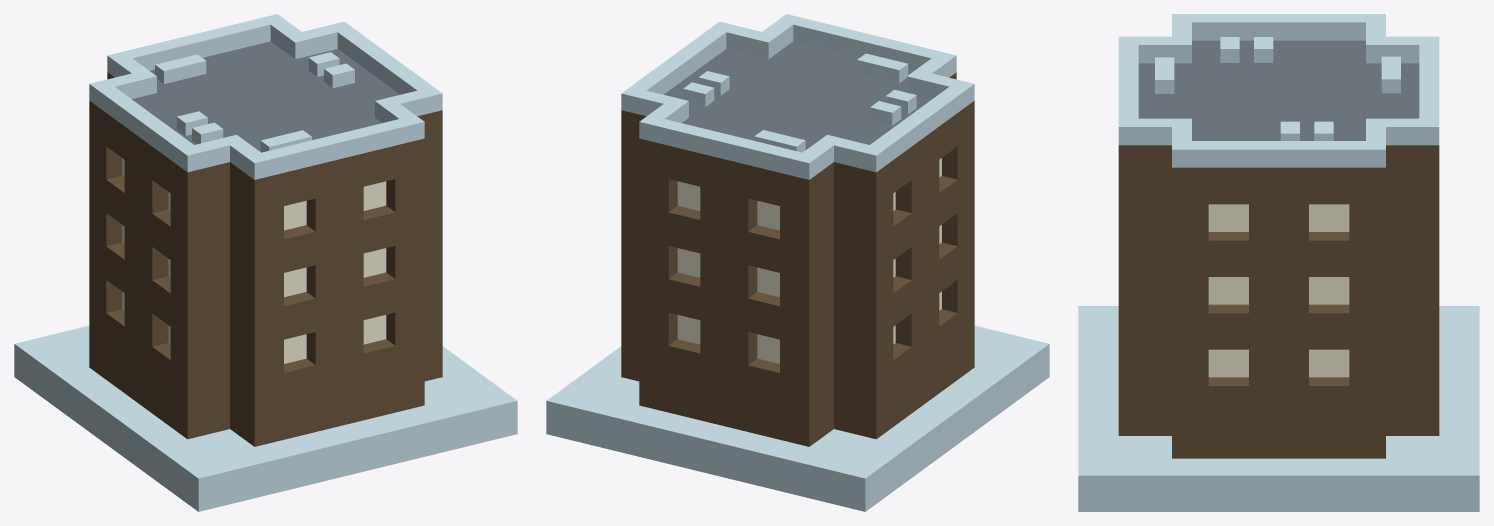
Rendered from Building_4_Base_Extra (Brown).obj.
3 renders of one model, left to right at view 1: azimuth 30°, elevation 25°; view 2: azimuth 150°, elevation 25°; view 3: azimuth 270°, elevation 25°, orthographic. The views are drawn at different scales.
Visible parts, largest first — view 1: Building_4_Base_Extra_(Brown); view 2: Building_4_Base_Extra_(Brown); view 3: Building_4_Base_Extra_(Brown).
Boxes of the visible parts, bbox=[...] form: Building_4_Base_Extra_(Brown): bbox=[14, 14, 517, 511]; Building_4_Base_Extra_(Brown): bbox=[546, 14, 1049, 511]; Building_4_Base_Extra_(Brown): bbox=[1078, 14, 1479, 511].
Bounding box in the file's own units: 2 × 1.9 × 2.
